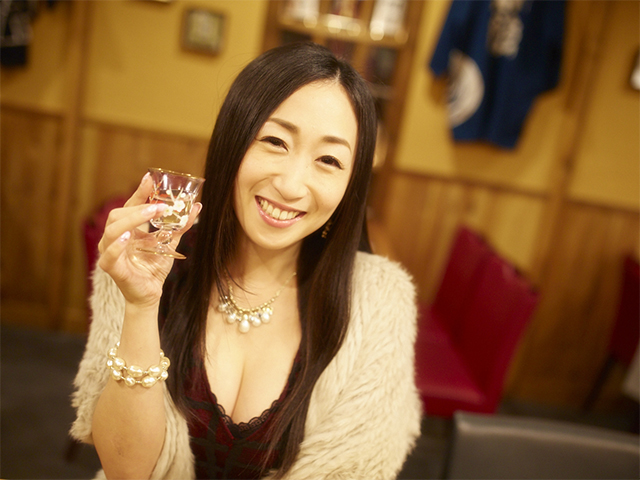face: (237, 72, 359, 250)
hand: (96, 171, 200, 300)
